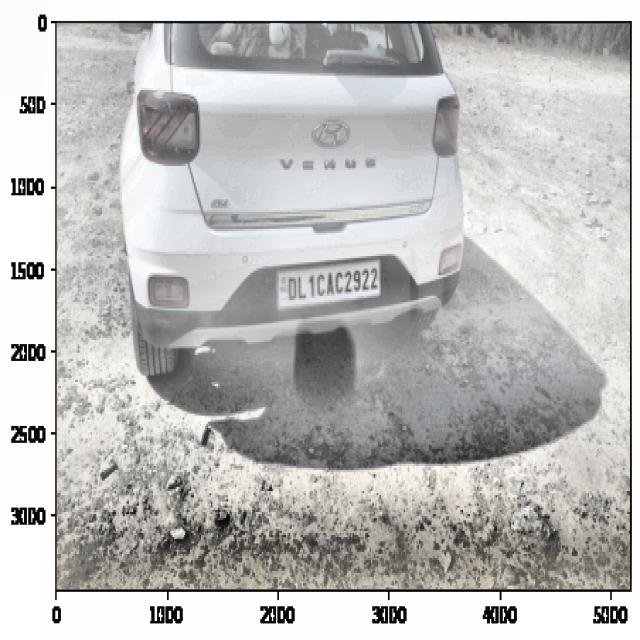license_plate: (283, 264, 384, 302)
